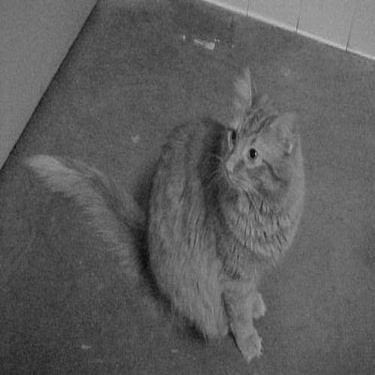cat: (20, 61, 306, 358)
